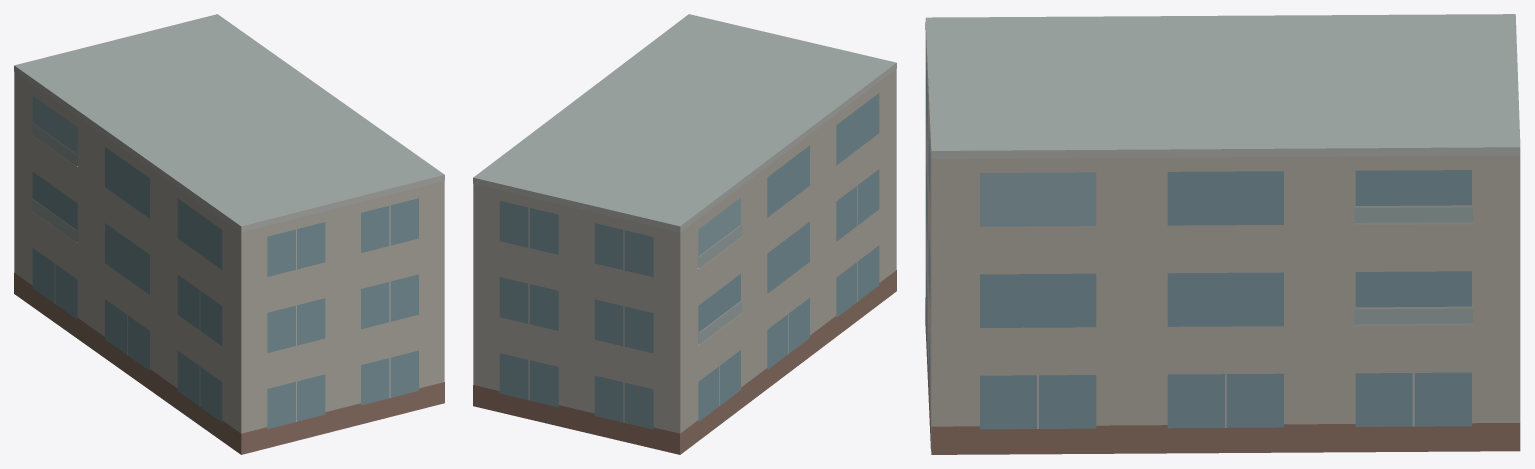
The model's file is survey-upis-32737042.glb.
3 renders of one model, left to right at view 1: azimuth 30°, elevation 25°; view 2: azimuth 150°, elevation 25°; view 3: azimuth 270°, elevation 25°, orthographic. The views are drawn at different scales.
Parts seen in each view (by area): view 1: survey-upis-32737042.tmp; view 2: survey-upis-32737042.tmp; view 3: survey-upis-32737042.tmp.
Boxes of the visible parts, x1=… form: survey-upis-32737042.tmp: x1=14, y1=14, x2=444, y2=454; survey-upis-32737042.tmp: x1=473, y1=14, x2=896, y2=454; survey-upis-32737042.tmp: x1=925, y1=14, x2=1520, y2=454.
Bounding box in the file's own units: 8.87 × 9.15 × 16.25.
